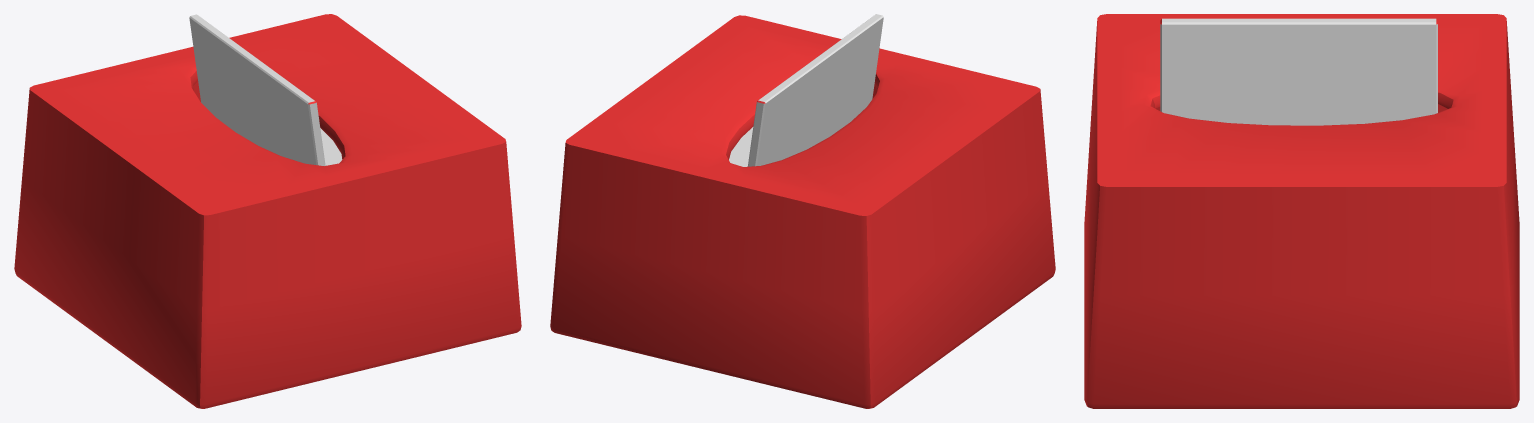
Rendered from tissue_box.fbx.
The picture shows the model from 3 angles, left to right: view 1: azimuth 30°, elevation 25°; view 2: azimuth 150°, elevation 25°; view 3: azimuth 270°, elevation 25°; orthographic projection. The views are drawn at different scales.
Visible parts, largest first — view 1: Hop dung giay; view 2: Hop dung giay; view 3: Hop dung giay.
Boxes of the visible parts, x1=… form: Hop dung giay: x1=14, y1=14, x2=521, y2=408; Hop dung giay: x1=550, y1=14, x2=1055, y2=408; Hop dung giay: x1=1084, y1=14, x2=1519, y2=408.
Size of the model in its own units: 22.94 by 16.91 by 22.94.
1 material, 1 textured.
